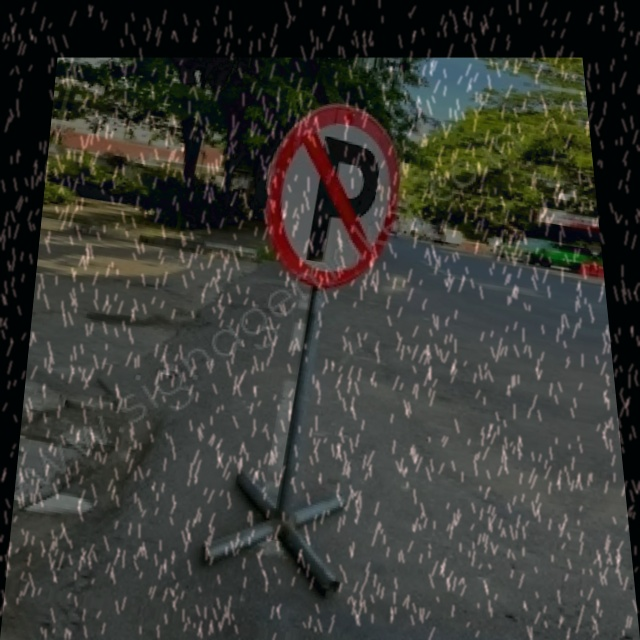No_Parking: (250, 94, 419, 298)
